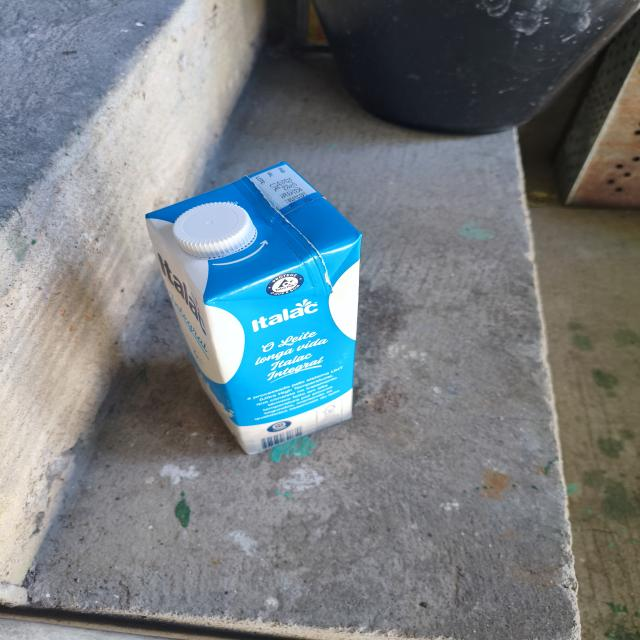Caixa de Leite: (122, 148, 367, 457)
